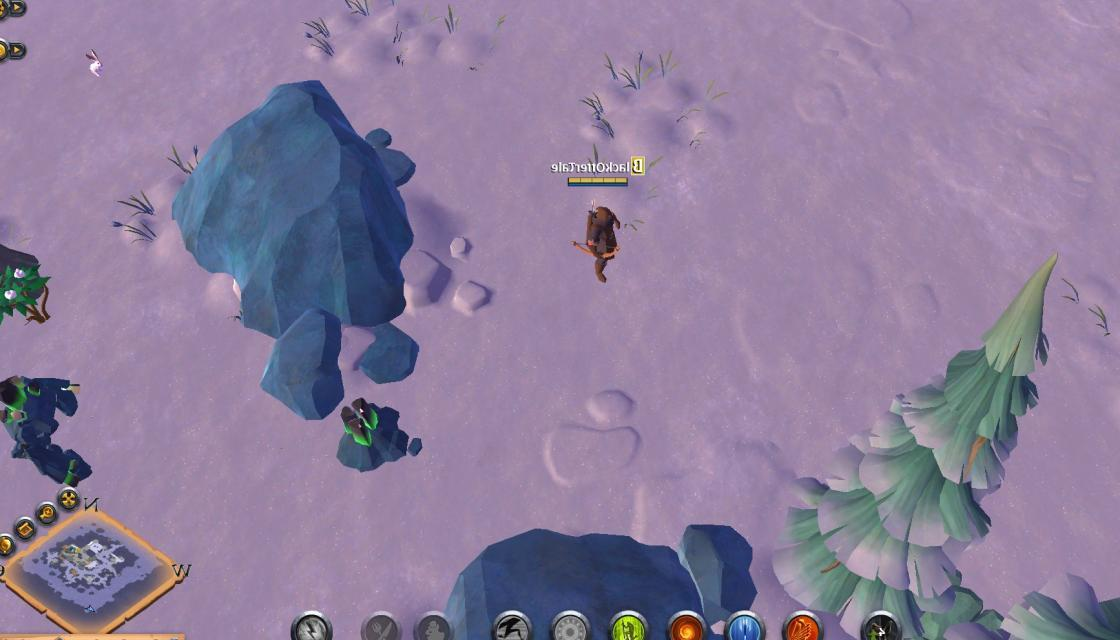tinore: (330, 395, 408, 473)
